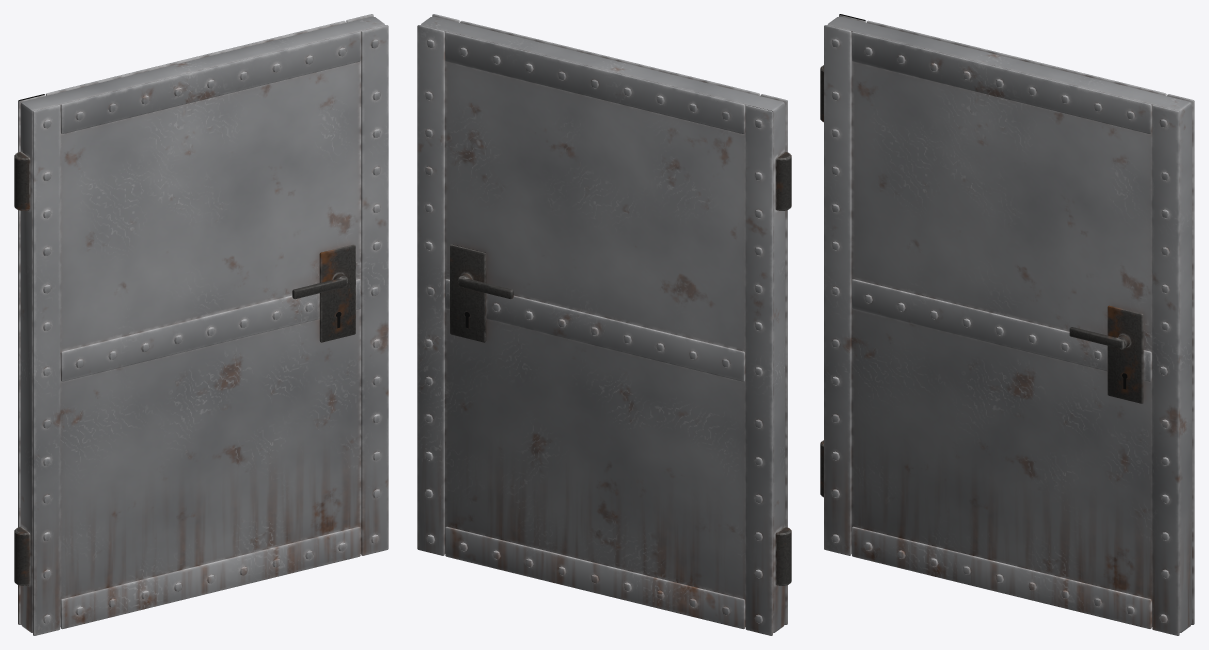
The model's file is door_metal.glb.
The picture shows the model from 3 angles, left to right: view 1: azimuth 30°, elevation 25°; view 2: azimuth 150°, elevation 25°; view 3: azimuth 330°, elevation 25°; orthographic projection.
Visible parts, largest first — view 1: door_metal; view 2: door_metal; view 3: door_metal.
Part boxes in pixels (left/top/right/bottom): door_metal: left=14, top=14, right=388, bottom=635; door_metal: left=417, top=14, right=791, bottom=635; door_metal: left=820, top=14, right=1194, bottom=635.
Size of the model in its own units: 1.02 by 1.4 by 0.152.
Materials: 1 (1 with a texture image).
